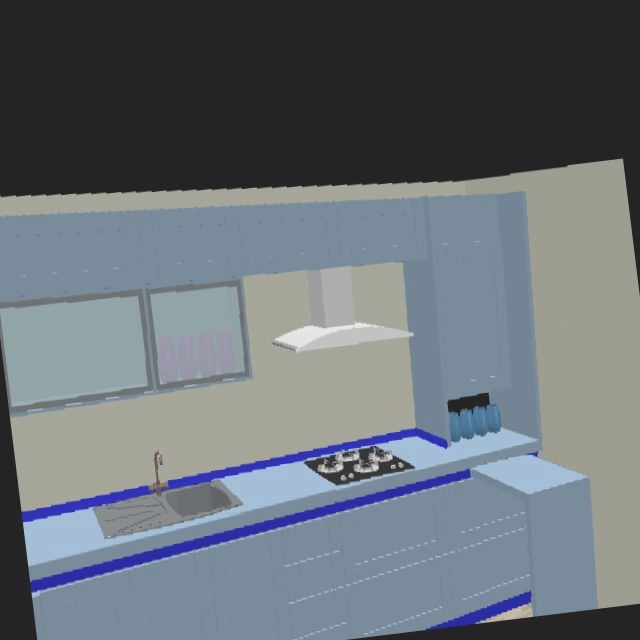countertop: (474, 455, 597, 586), (23, 509, 145, 566), (218, 462, 336, 516), (378, 429, 534, 469)
sink: (93, 481, 243, 540)
stove: (304, 445, 415, 486)
